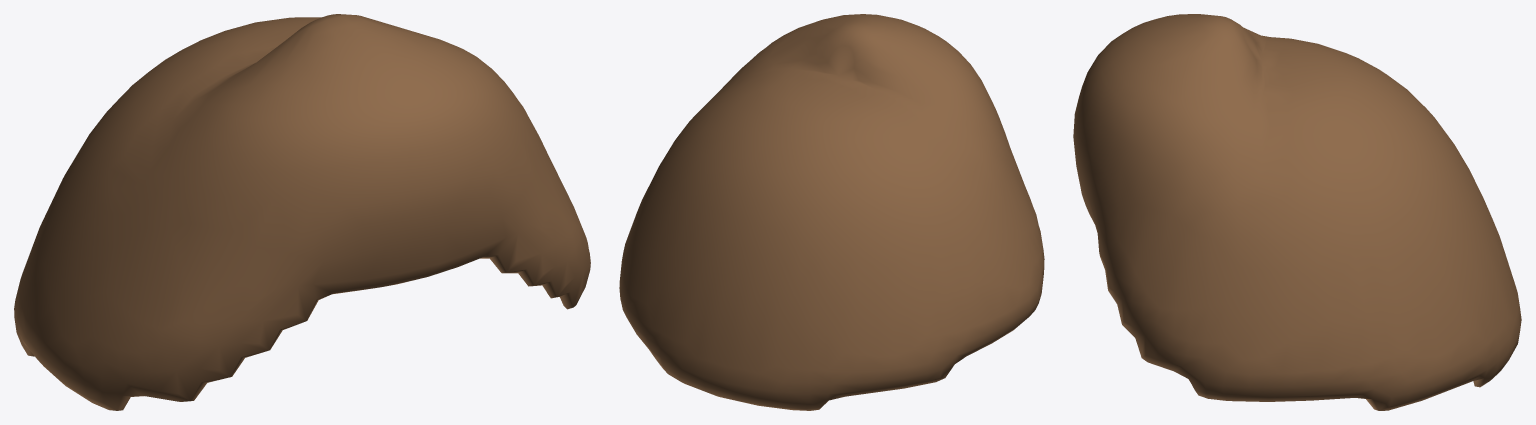
The model's file is m_quiff.glb.
3 renders of one model, left to right at view 1: azimuth 30°, elevation 25°; view 2: azimuth 150°, elevation 25°; view 3: azimuth 270°, elevation 25°, orthographic. The views are drawn at different scales.
Parts seen in each view (by area): view 1: m_quiff; view 2: m_quiff; view 3: m_quiff.
Part boxes in pixels (bbox=[...]): m_quiff: bbox=[14, 14, 590, 410]; m_quiff: bbox=[619, 14, 1044, 410]; m_quiff: bbox=[1073, 14, 1521, 410].
Bounding box in the file's own units: 2.09 × 1.52 × 1.89.
